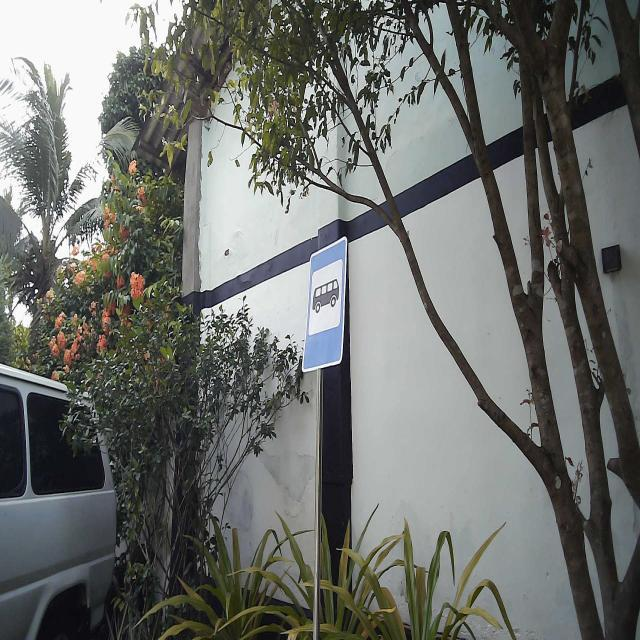bus_stop: (301, 236, 348, 375)
